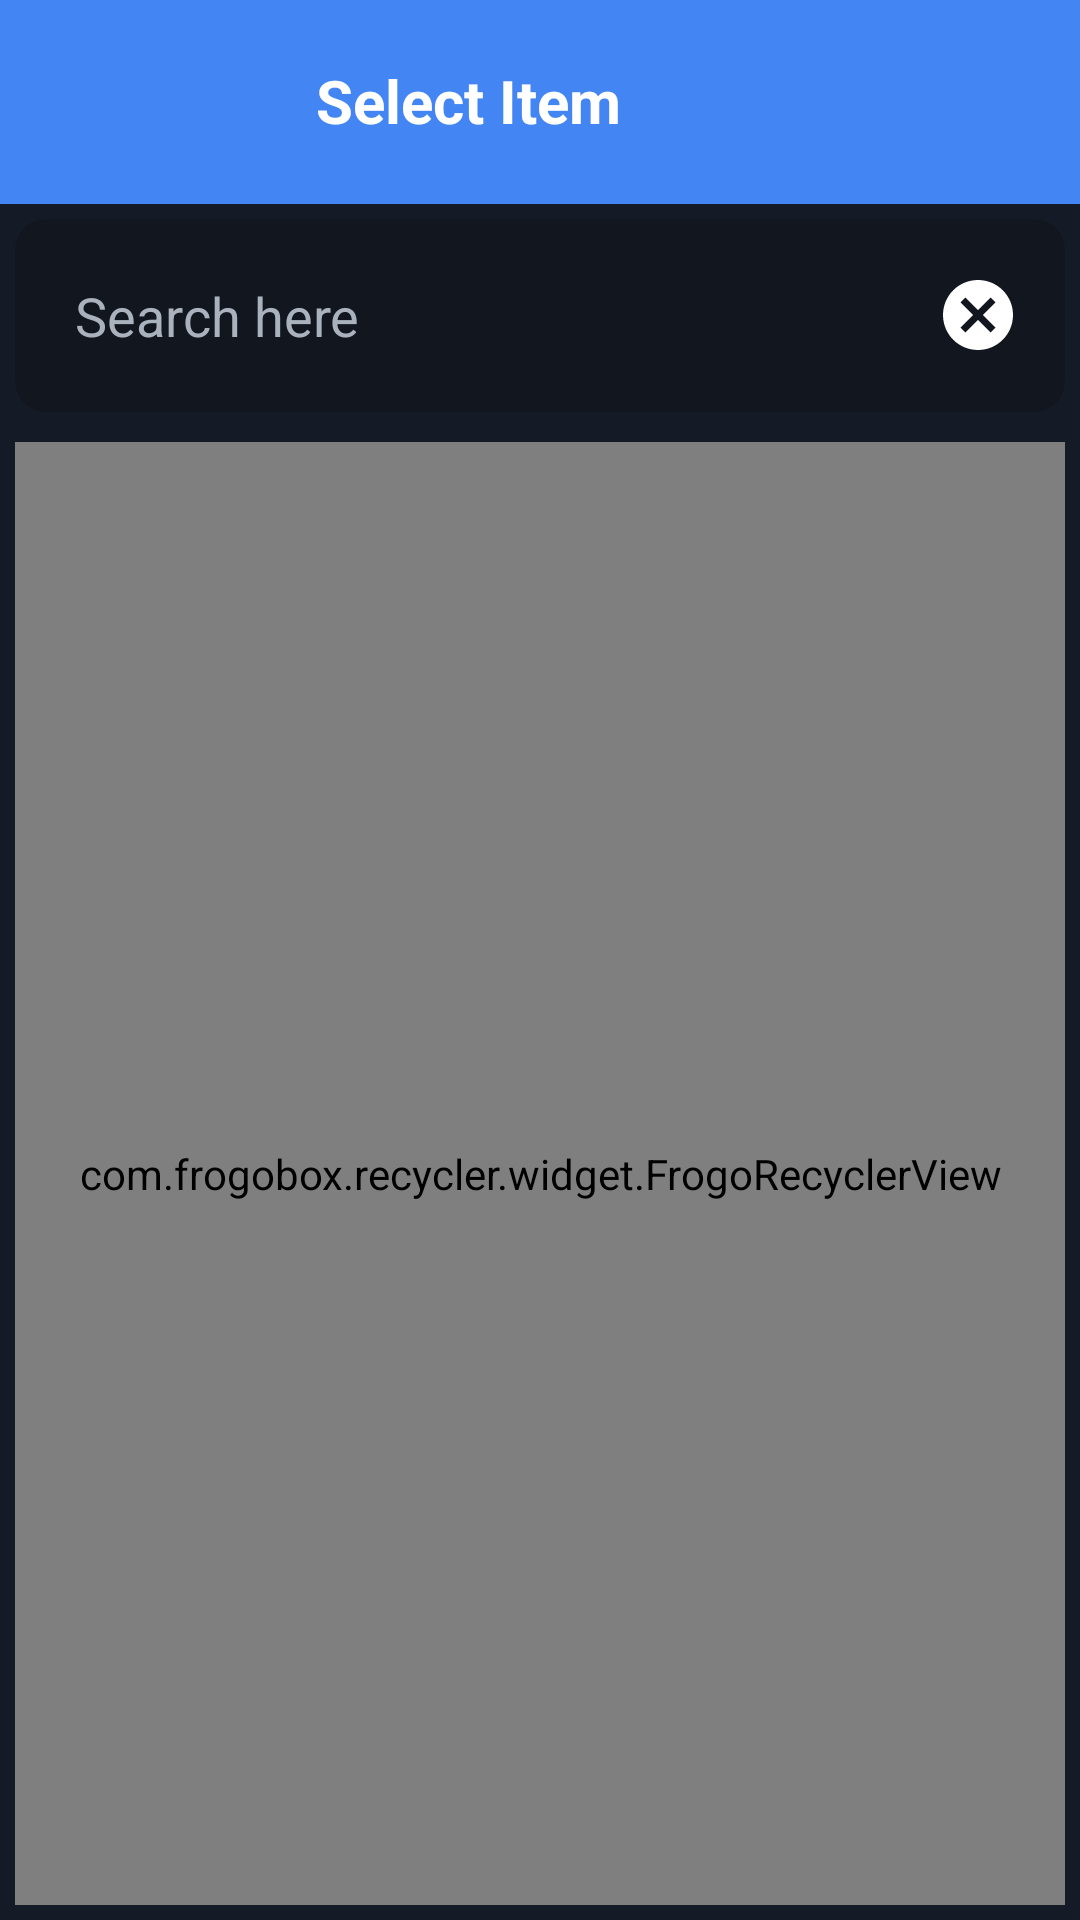

Icon bounding boxes for this 1080×1920 phone screenshot, format rect(x1, y1, x2, y2):
cancel: rect(943, 280, 1013, 350)
